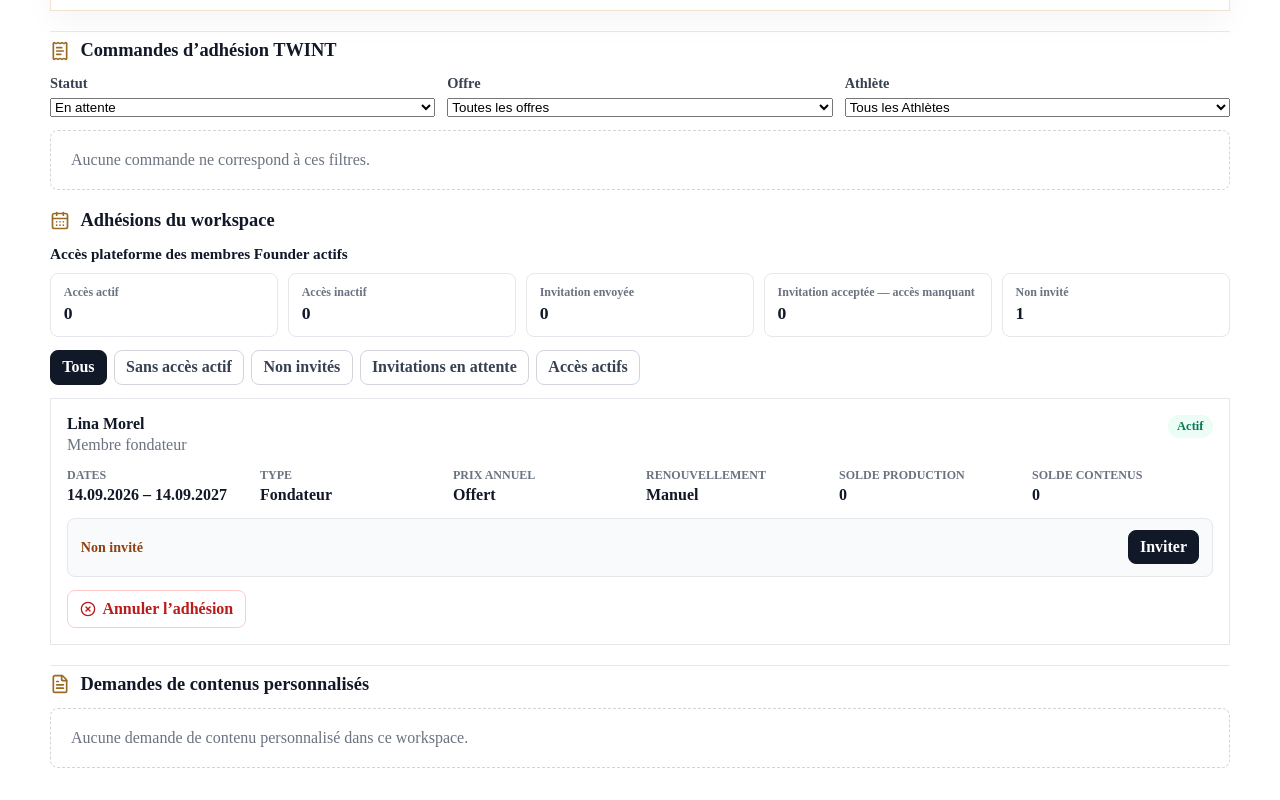
Test case: Athlete memberships settings page › invites a Founder by athleteId and refreshes access state
(page scrolled)
What coordinates should you click on to do the following:
click the button "Inviter"
I would click on:
 (1163, 547)
Its box is [1128,530,1199,564].
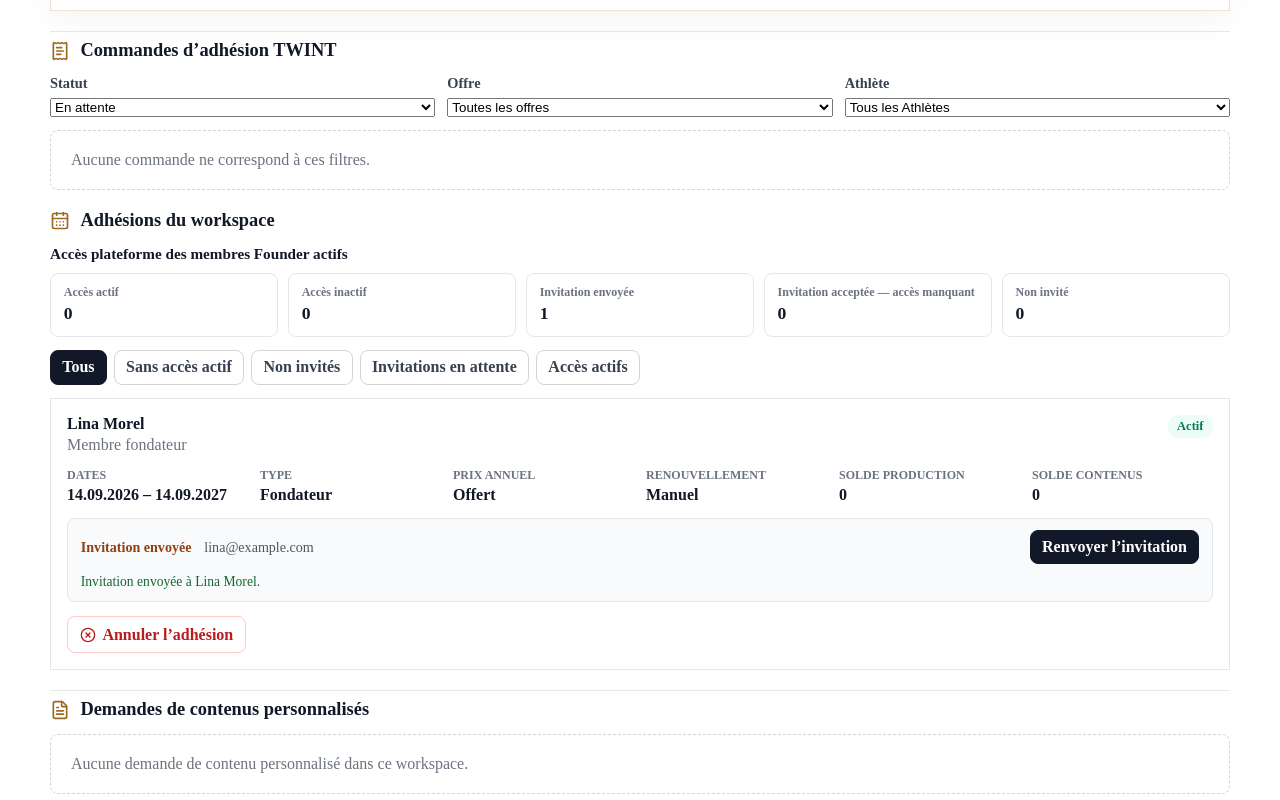
Check: the text "Invitation envoyée à Lina Morel." is shown, box [81,574,260,589]
Check: the text "lina@example.com" is shown, box [204,539,314,556]
